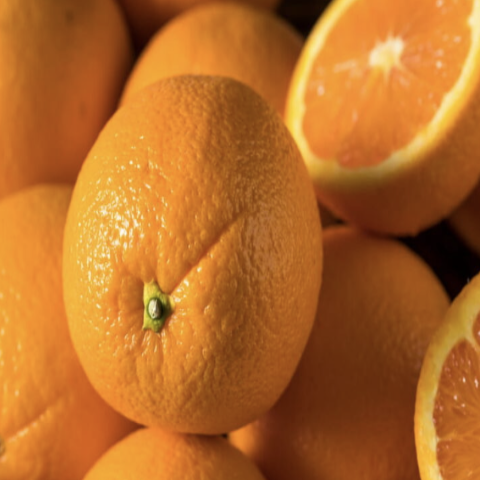orange: (31, 48, 335, 454)
